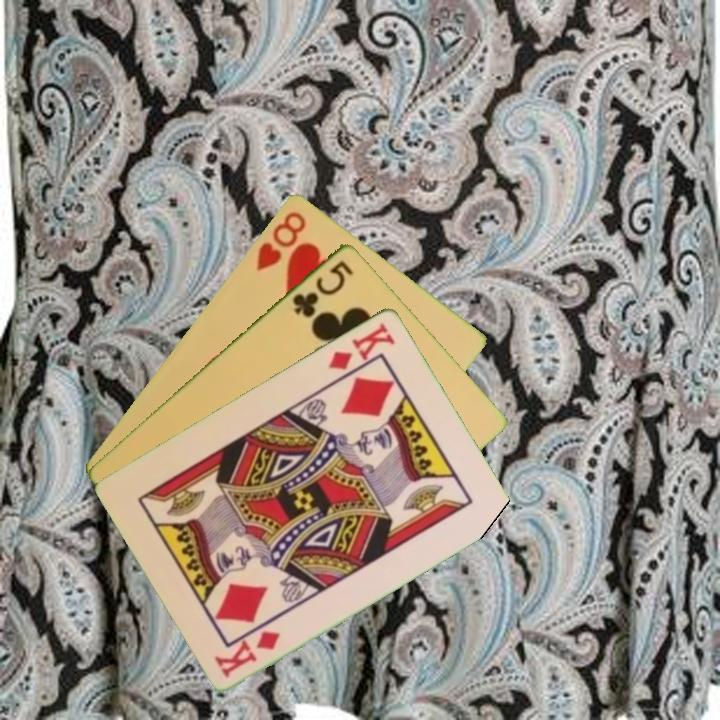5c: (289, 256, 356, 320)
8h: (252, 207, 309, 273)
Kd: (324, 318, 398, 373), (212, 626, 283, 680)
